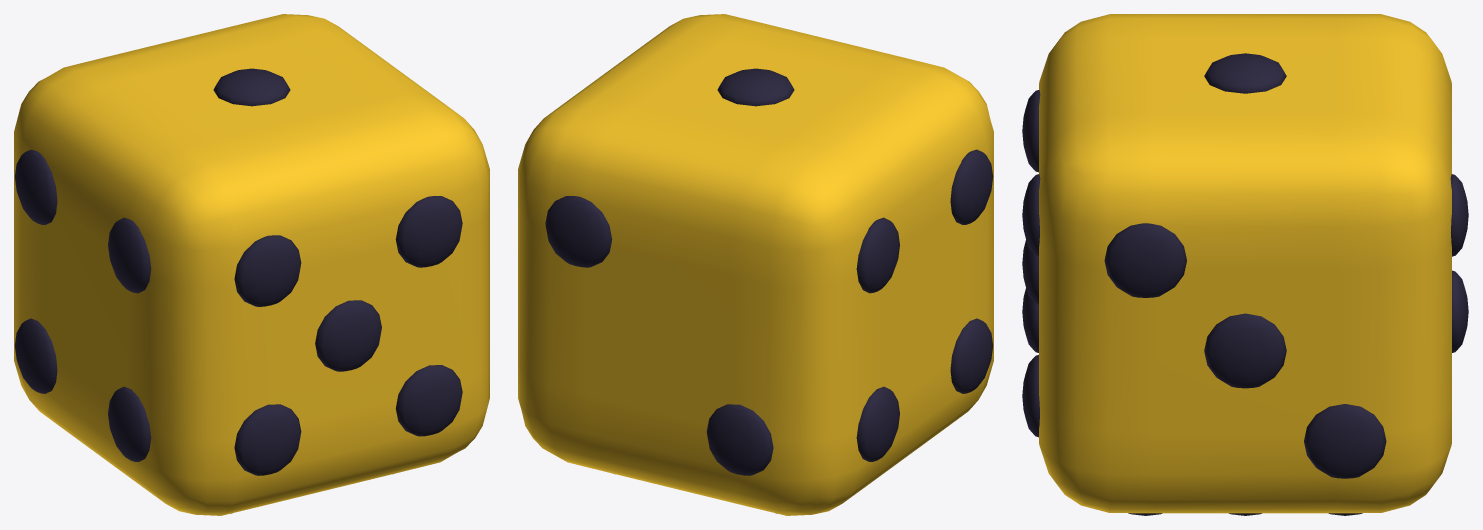
File: DiceDashDie.obj
3 renders of one model, left to right at view 1: azimuth 30°, elevation 25°; view 2: azimuth 150°, elevation 25°; view 3: azimuth 270°, elevation 25°, orthographic. The views are drawn at different scales.
Visible parts, largest first — view 1: Body, Pips; view 2: Body, Pips; view 3: Body, Pips.
Boxes of the visible parts, left/top/right/bottom form: Body: left=14, top=14, right=489, bottom=515; Pips: left=14, top=68, right=462, bottom=513; Body: left=518, top=14, right=993, bottom=515; Pips: left=545, top=68, right=993, bottom=513; Body: left=1039, top=14, right=1451, bottom=513; Pips: left=1022, top=53, right=1468, bottom=515.
Bounding box in the file's own units: 3.67 × 3.67 × 3.67.
